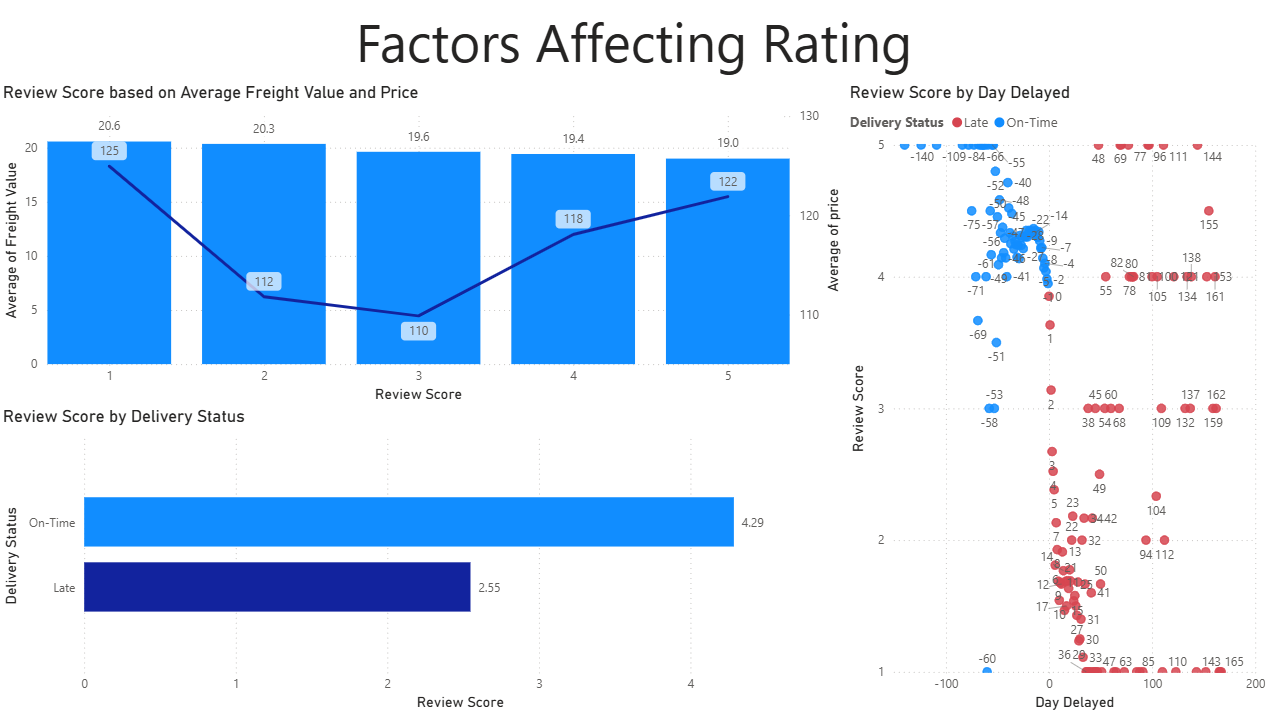

The dashboard page shown, as its layout file describes it:
{"tool":"tableau","page":{"name":"Dashboard 1","canvas":[1000,1000],"units":"permille","ordinal":0},"visuals":[{"type":"worksheet","title":"Sheet 2","mark":"Automatic","rows":["Global_Sales"],"cols":["Genre"],"box":[5.4,6.7,880.3,493.3]},{"type":"filter","title":"Sheet 1","param":"[federated.0z8837z11ehy2b1gi6vco1u9yjr9].[none:Platform:nk]","box":[885.7,6.7,108.8,563.2]},{"type":"worksheet","title":"Sheet 1","mark":"Automatic","rows":["Global_Sales","Calculation_752945629088002050"],"cols":["Year (bin)"],"box":[5.4,500,880.3,493.3]},{"type":"legend","title":"Sheet 1","param":"[federated.0z8837z11ehy2b1gi6vco1u9yjr9].[none:Genre:nk]","box":[885.7,569.9,108.8,223.4]}]}

Visuals, with their boxes on the dashboard's canvas, which has no fixed pixel size, in thousandths of its width and height (x1, y1, x2, y2). These are canvas units, not pixel positions in the 1267x712 screenshot, which may show the page scaled, cropped or inside an application window:
"Sheet 2" worksheet: (5, 7, 886, 500)
"Sheet 1" filter: (886, 7, 994, 570)
"Sheet 1" worksheet: (5, 500, 886, 993)
"Sheet 1" legend: (886, 570, 994, 793)
